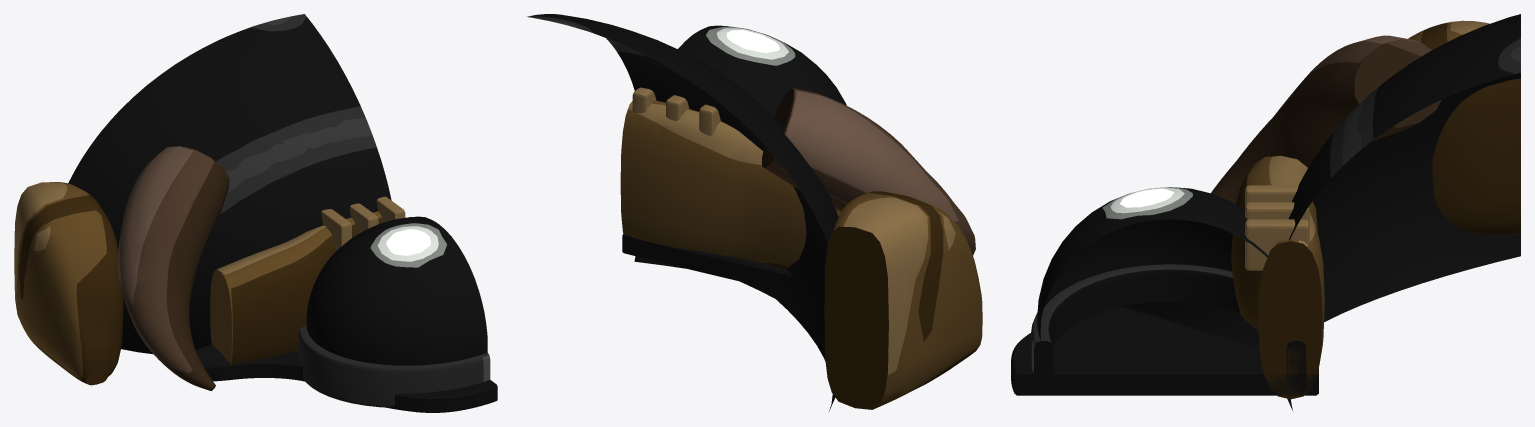
The model's file is claw_orb_bl.glb.
3 views of the same model, side by side, from view 1: azimuth 30°, elevation 25°; view 2: azimuth 150°, elevation 25°; view 3: azimuth 270°, elevation 25° (orthographic). The views are drawn at different scales.
Visible parts, largest first — view 1: claw_orb_bl; view 2: claw_orb_bl; view 3: claw_orb_bl.
Boxes of the visible parts, x1,y1,x2,y2 form: claw_orb_bl: (14, 14, 497, 412); claw_orb_bl: (527, 14, 982, 411); claw_orb_bl: (1011, 14, 1520, 410).
Bounding box in the file's own units: 22.96 × 18.78 × 25.26.
